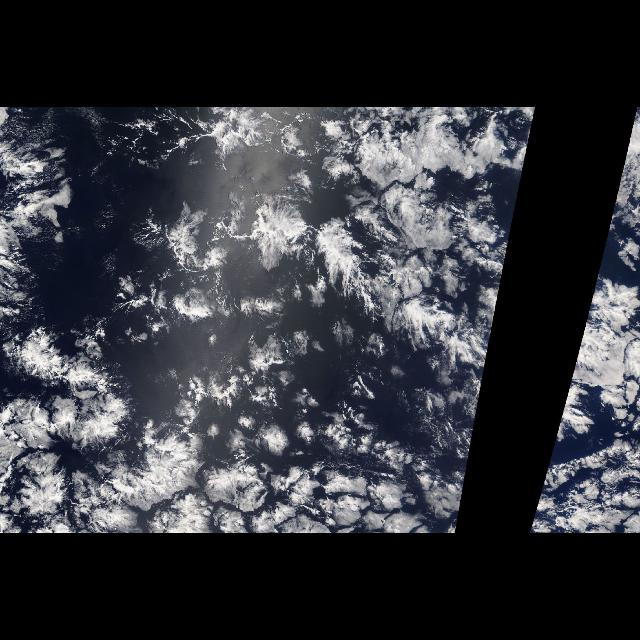Fish: (316, 226, 482, 362)
Flower: (1, 112, 522, 534)
